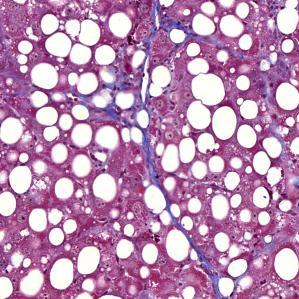fibrosis: (133, 125, 165, 183)
